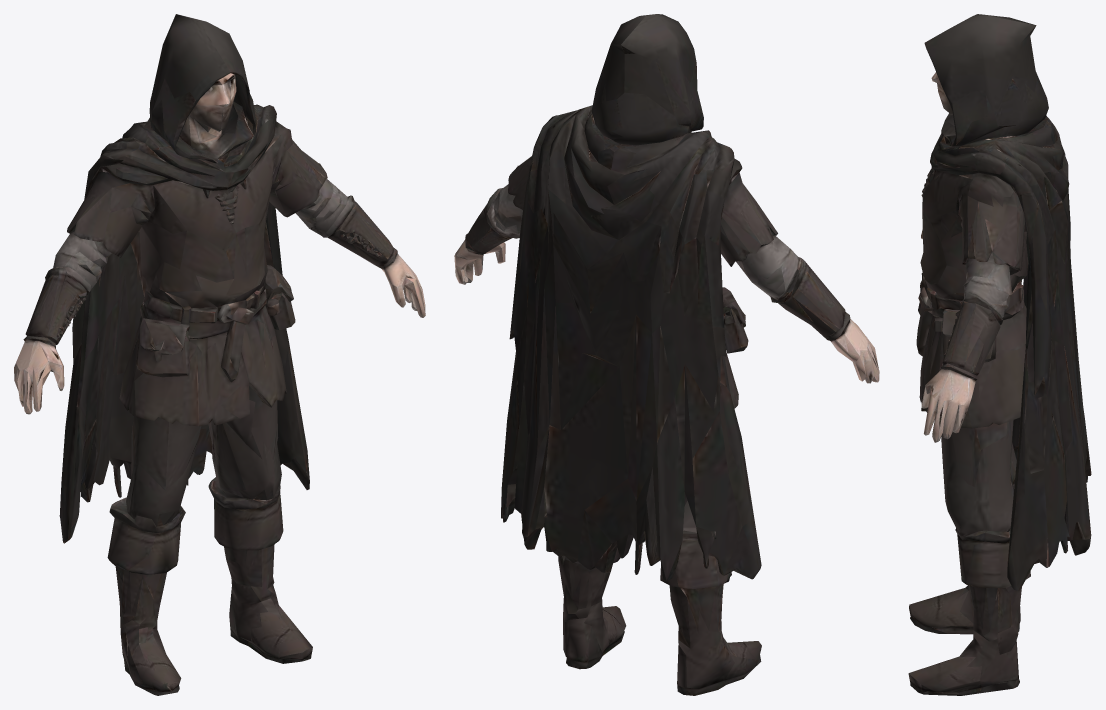
File: vex.glb
3 renders of one model, left to right at view 1: azimuth 30°, elevation 25°; view 2: azimuth 150°, elevation 25°; view 3: azimuth 270°, elevation 25°, orthographic. The views are drawn at different scales.
Visible parts, largest first — view 1: output_unwrapped; view 2: output_unwrapped; view 3: output_unwrapped.
Part boxes in pixels (x1,y1,x2,y2): output_unwrapped: [14, 14, 425, 695]; output_unwrapped: [454, 14, 879, 695]; output_unwrapped: [908, 14, 1091, 695].
Size of the model in its own units: 1.27 by 1.9 by 0.4915.
Materials: 1 (1 with a texture image).
